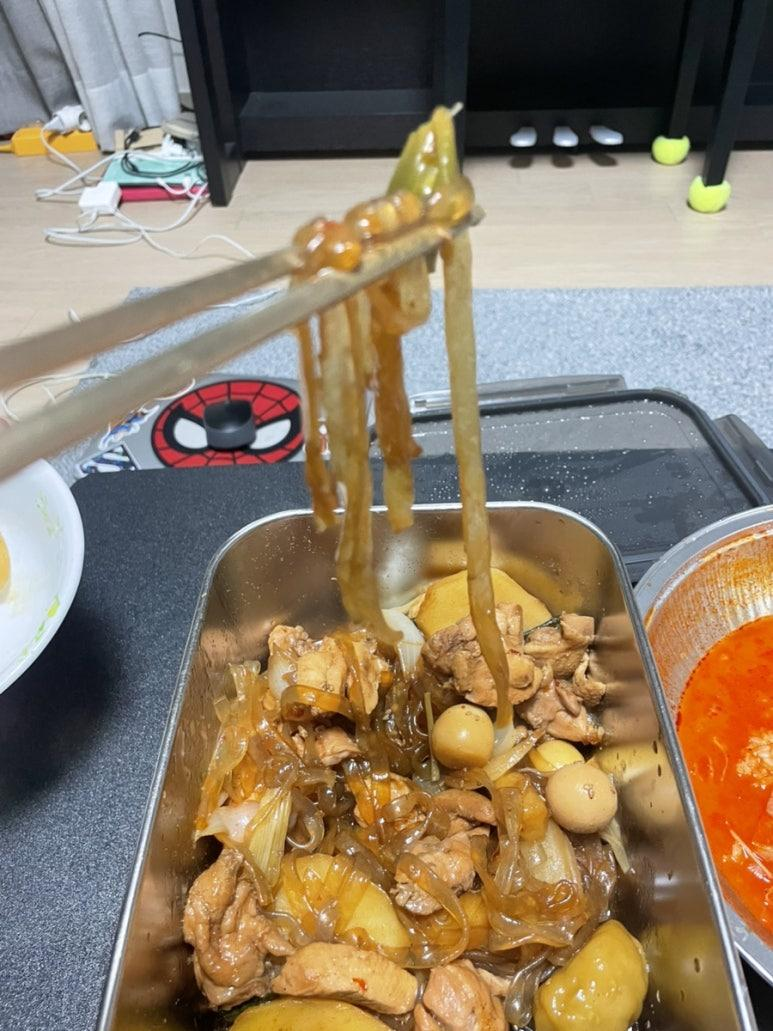Lunch Box: (98, 503, 756, 1030), (635, 505, 772, 984), (0, 461, 83, 694)
